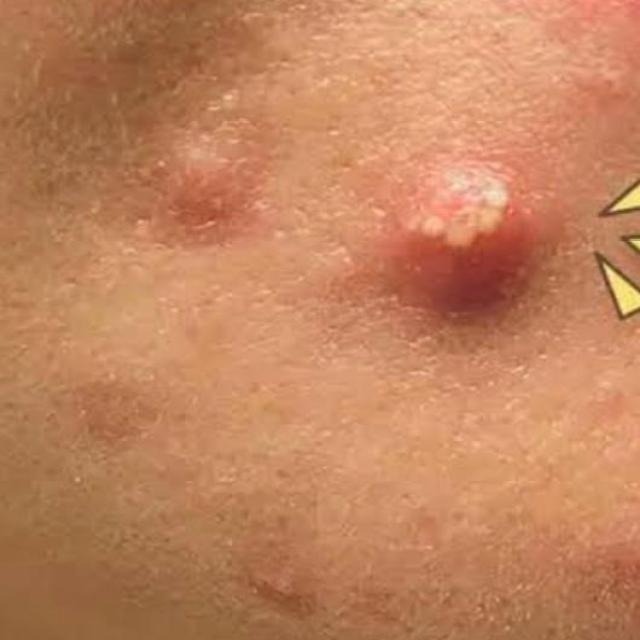pustule: (347, 152, 566, 353)
